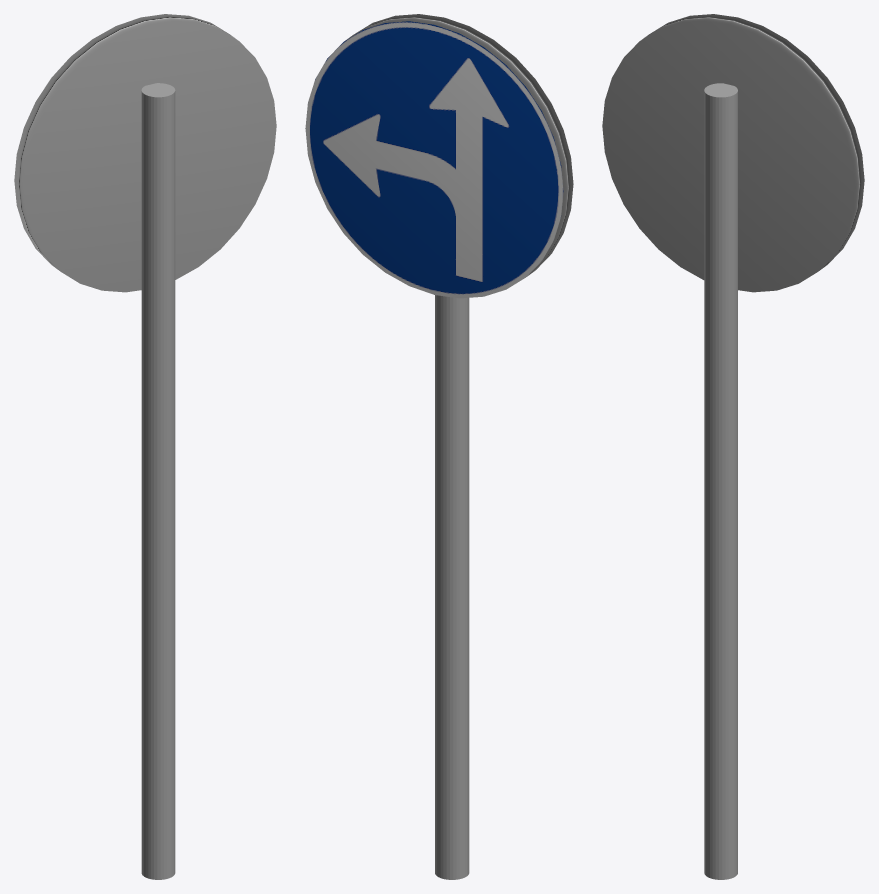
The model's file is ЗнакДвижениеПрямоИлиНалево.fbx.
The picture shows the model from 3 angles, left to right: view 1: azimuth 30°, elevation 25°; view 2: azimuth 150°, elevation 25°; view 3: azimuth 330°, elevation 25°; orthographic projection. The views are drawn at different scales.
Visible parts, largest first — view 1: Знак; view 2: Знак; view 3: Знак.
Boxes of the visible parts, x1=… form: Знак: x1=14, y1=14, x2=276, y2=879; Знак: x1=305, y1=14, x2=573, y2=879; Знак: x1=602, y1=14, x2=864, y2=879.
Size of the model in its own units: 64.18 by 361 by 1150.
2 materials, 1 textured.
